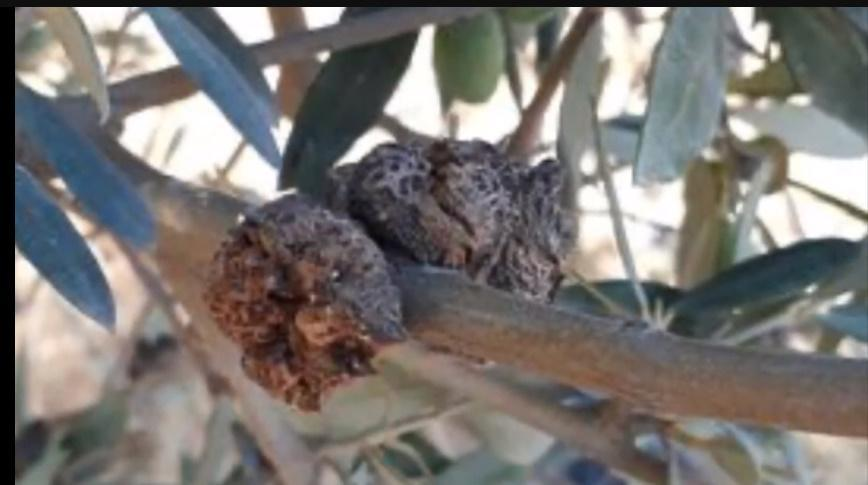Tuberculosis: (348, 123, 580, 316), (198, 203, 394, 402)
